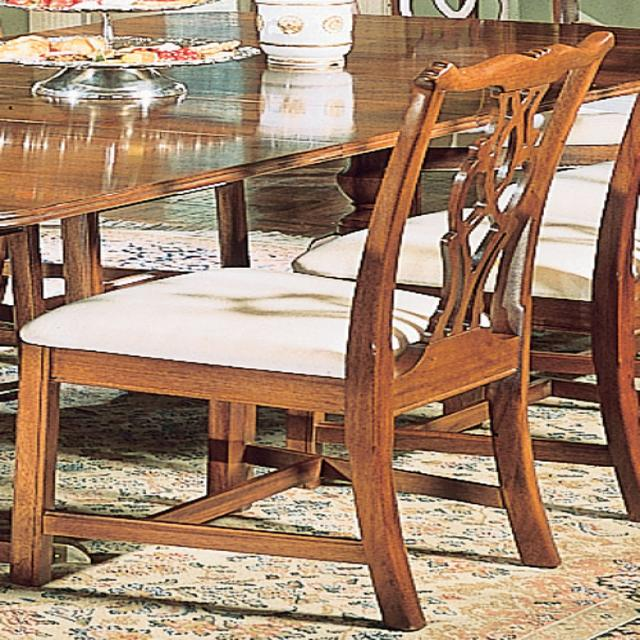chair: (14, 24, 614, 630)
